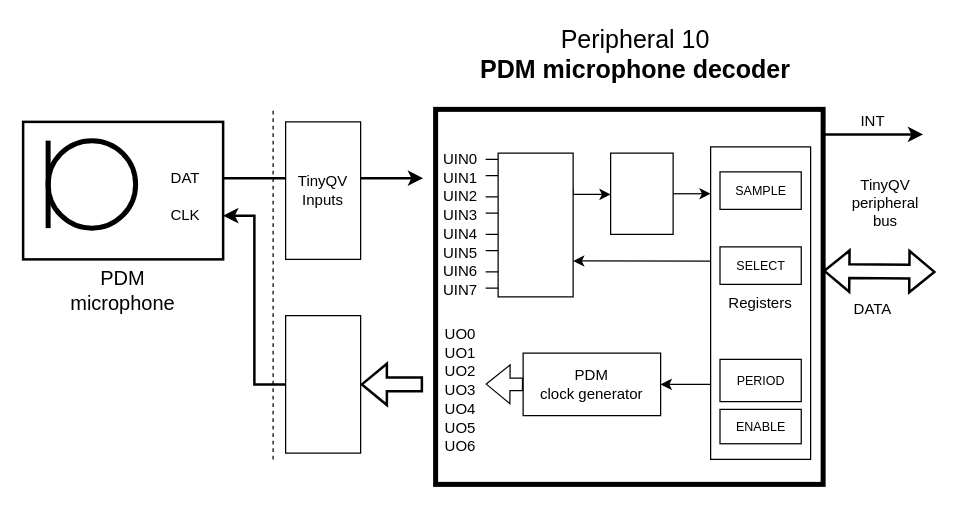
The diagram is 956 pixels wide and 508 high, and some of its shapes have lost their labels. The shapes that lost their labels are listed below. From the top down, each one's centre as x and y in pixels, then its label:
the point at 641,193: CIC filter
the point at 535,224: Input Mux
the point at 322,383: TinyQV Output Mux
